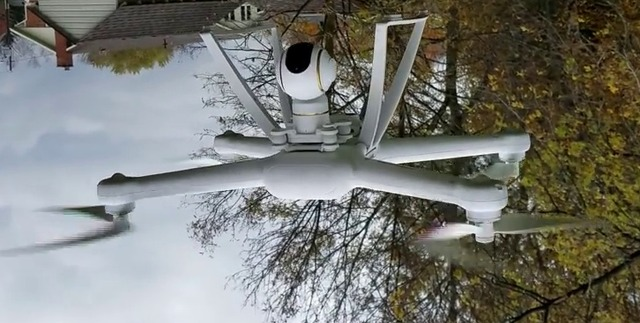drone: (6, 17, 598, 254)
